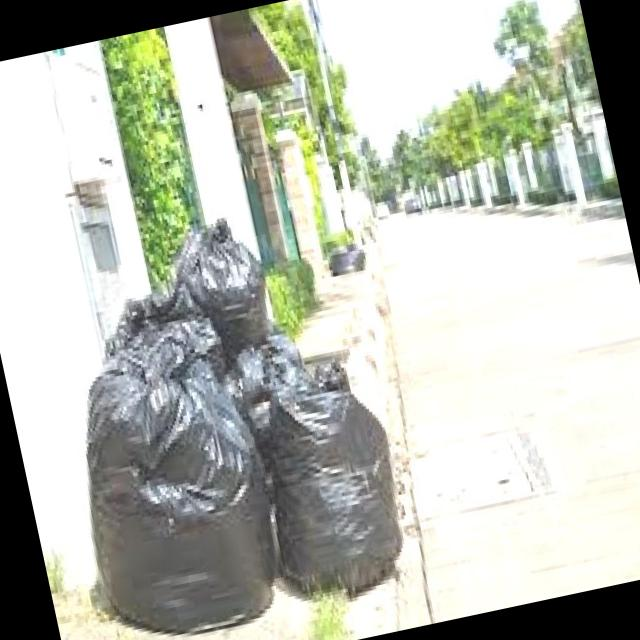high trash: (87, 222, 402, 632)
